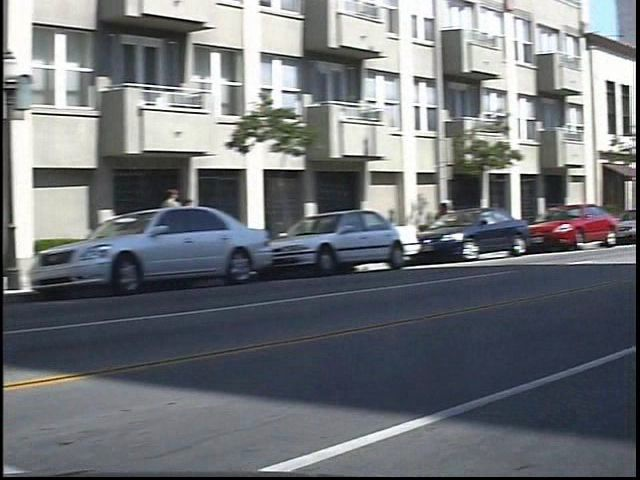person: (174, 182, 198, 262), (194, 194, 215, 257)
